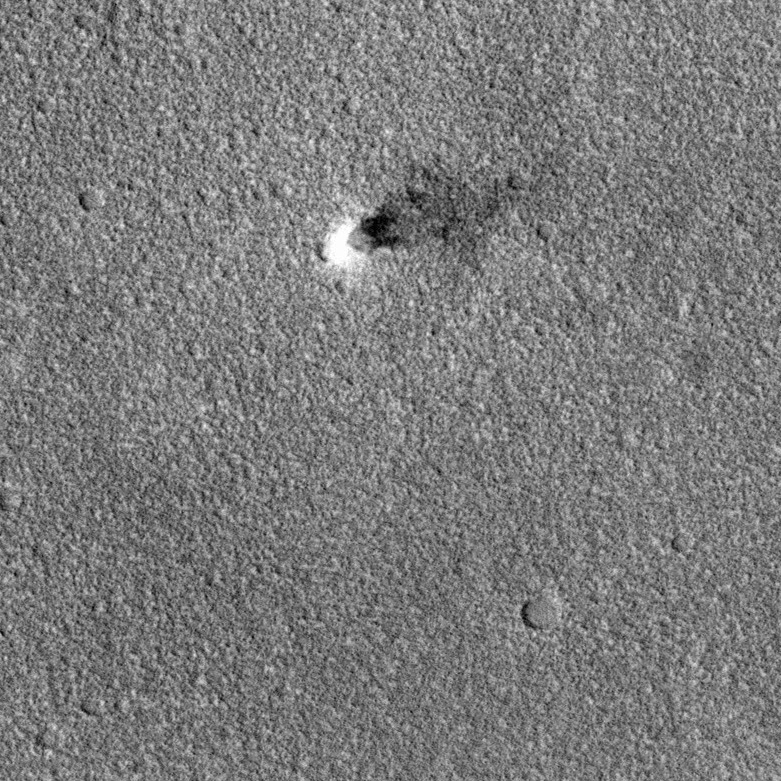dust_devil: (316, 157, 523, 275)
